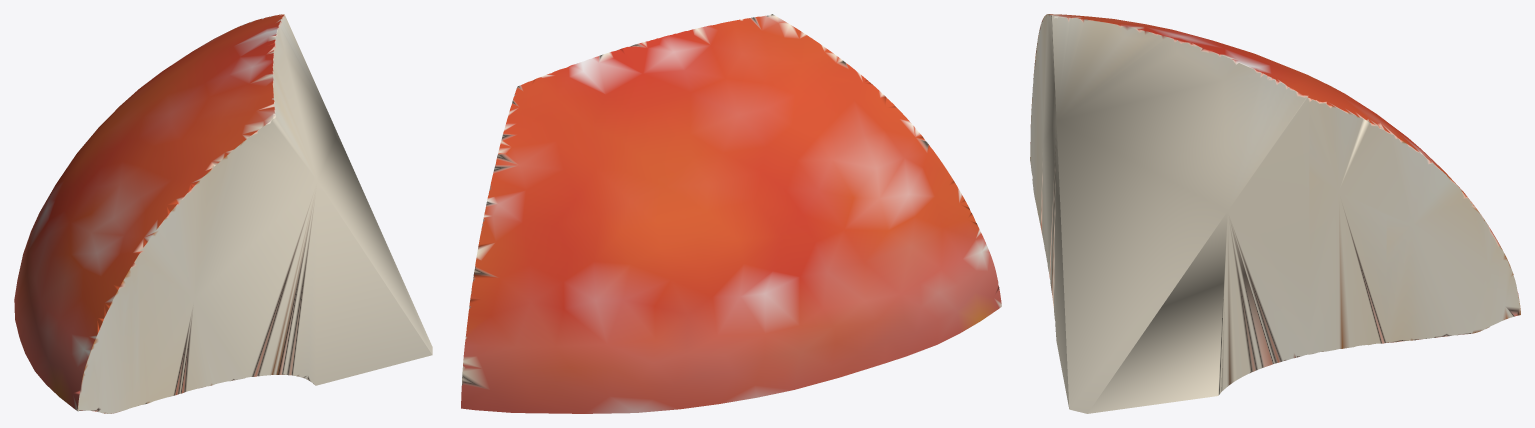
Rendered from amanita-scout-cap3.glb.
3 views of the same model, side by side, from view 1: azimuth 30°, elevation 25°; view 2: azimuth 150°, elevation 25°; view 3: azimuth 270°, elevation 25° (orthographic). The views are drawn at different scales.
Parts seen in each view (by area): view 1: body; view 2: body; view 3: body.
Part boxes in pixels (<box>): body: <box>14,14,432,413</box>; body: <box>461,14,1001,413</box>; body: <box>1030,14,1520,413</box>.
Bounding box in the file's own units: 0.5985 × 0.4342 × 0.6171.
